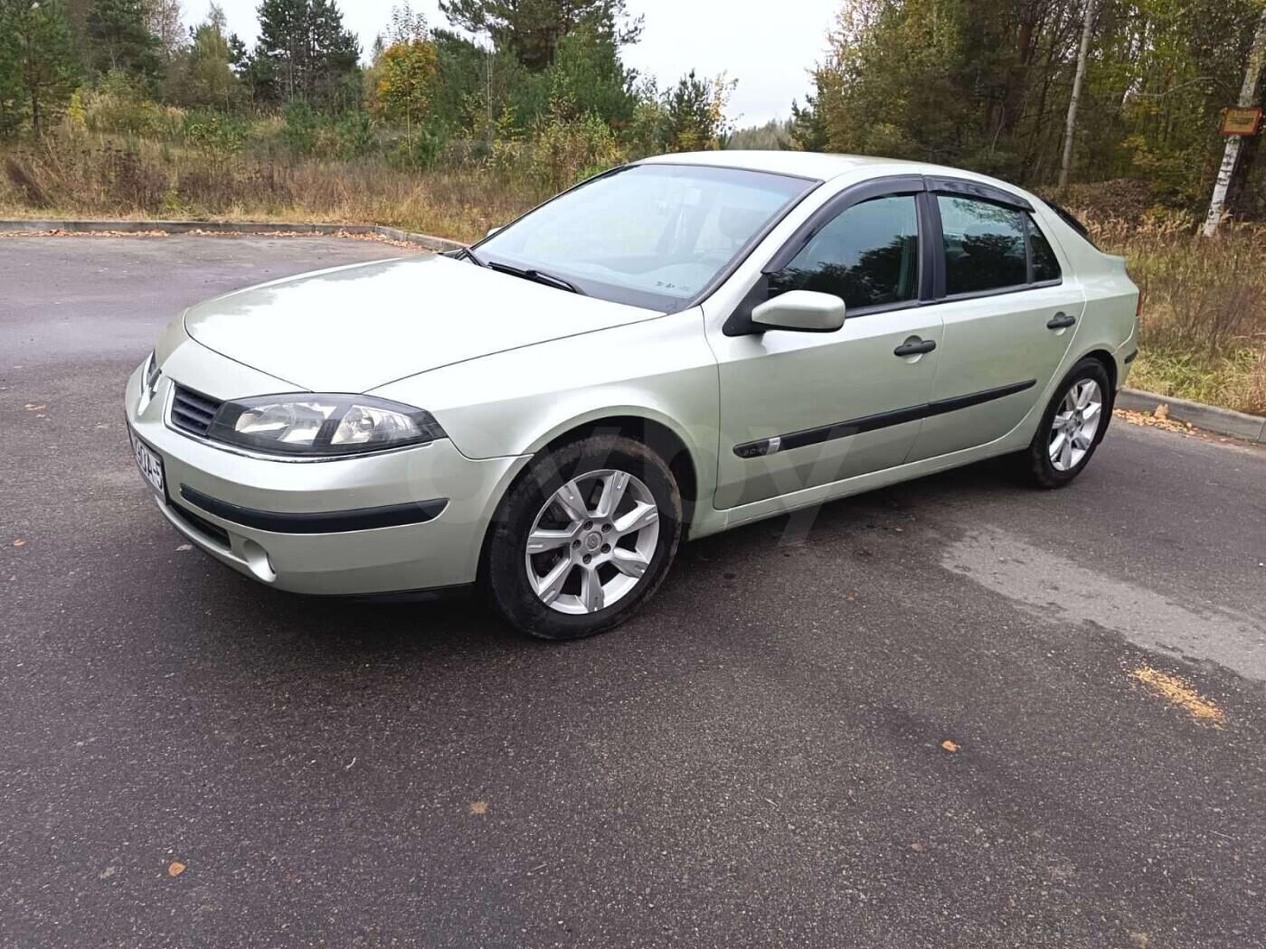Laguna_2005-2007: (121, 136, 1157, 634)
